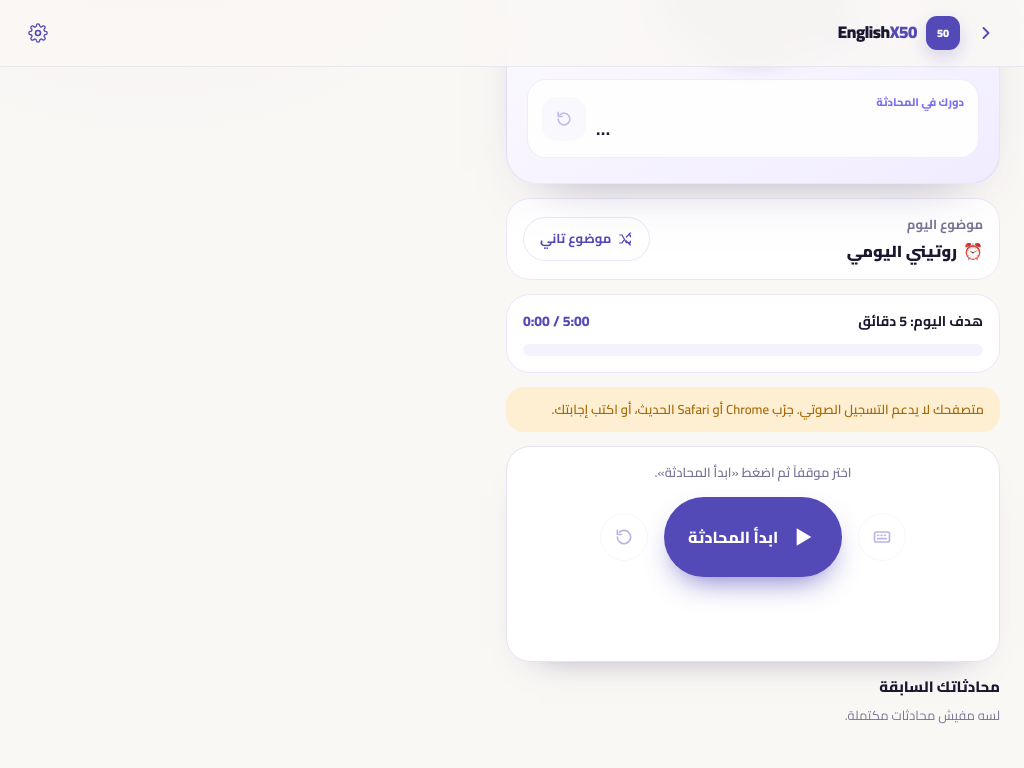
Test case: SpeakScreen › shows the unsupported-browser notice and disables the mic
(page scrolled)
Click the button "ابدأ المحادثة".
click(753, 537)  # box x1=664 y1=497 x2=842 y2=577
(page scrolled)
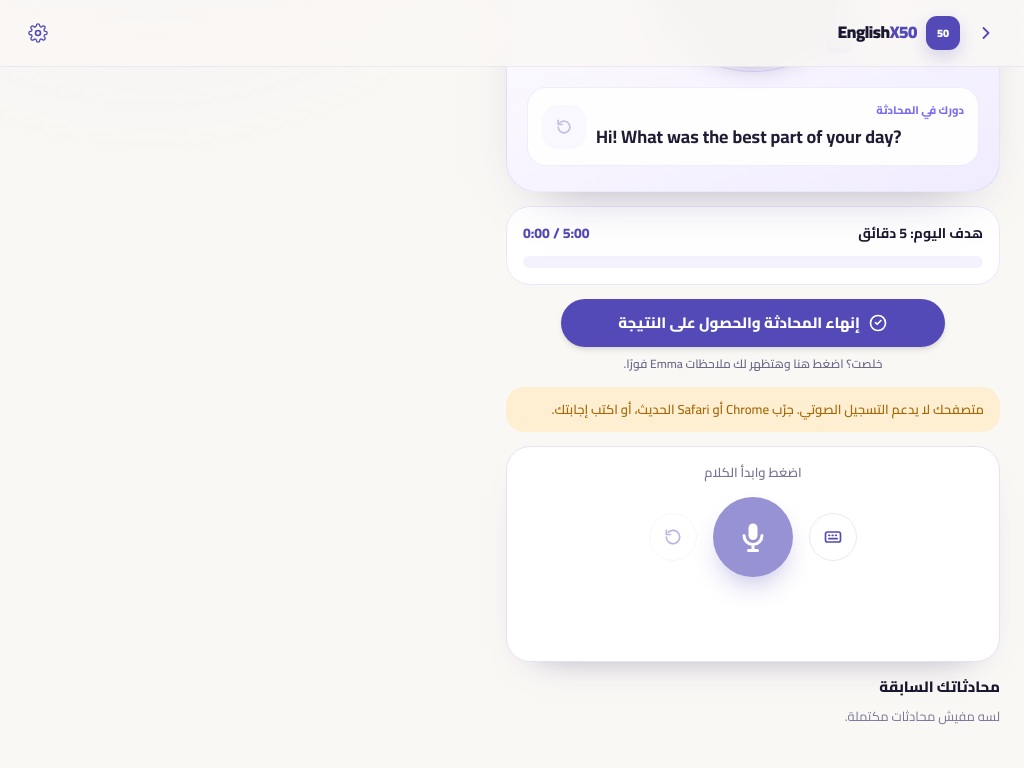
Check: the text "متصفحك لا يدعم التسجيل الصوتي" is shown, box x1=552 y1=397 x2=984 y2=421
Check: the button named "ابدأ التسجيل" is disabled, box x1=713 y1=497 x2=793 y2=577
